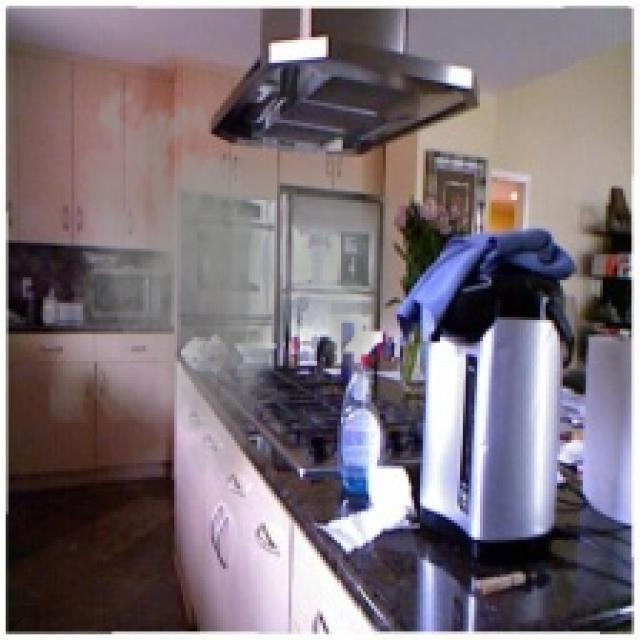smoke: (49, 74, 400, 497)
